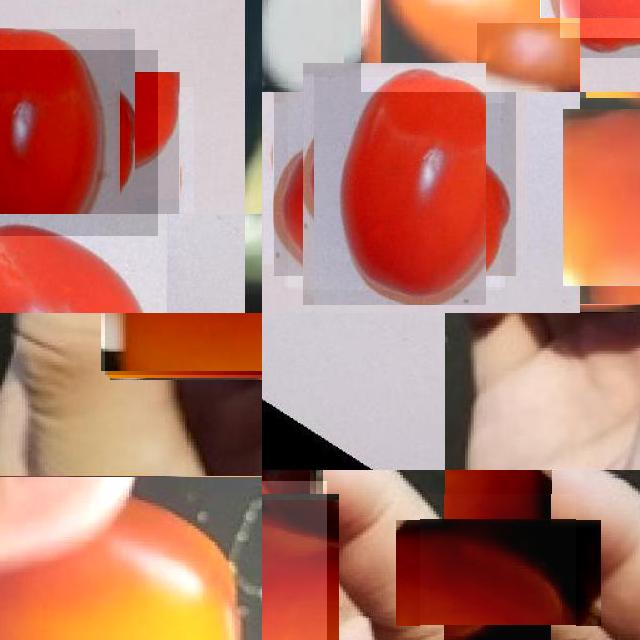0: (288, 77, 501, 290), (0, 49, 157, 236), (420, 494, 576, 640), (361, 0, 580, 92), (0, 214, 167, 313), (571, 100, 640, 295), (262, 481, 327, 640)
Fresh Tomato: (0, 476, 262, 640)
